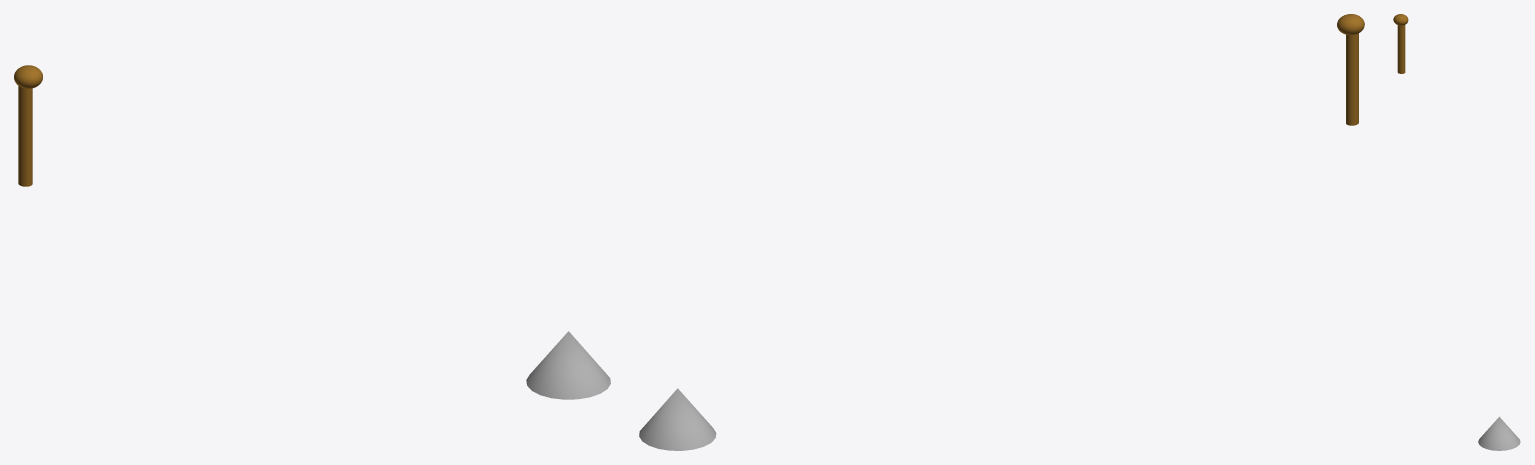
The model's file is Bulb03.fbx.
3 views of the same model, side by side, from view 1: azimuth 30°, elevation 25°; view 2: azimuth 150°, elevation 25°; view 3: azimuth 270°, elevation 25° (orthographic). The views are drawn at different scales.
Parts seen in each view (by area): view 1: HoldFast, polySurface105; view 2: HoldFast, polySurface105; view 3: HoldFast, polySurface105.
Boxes of the visible parts, x1=… form: HoldFast: x1=526, y1=331, x2=610, y2=399; polySurface105: x1=14, y1=65, x2=42, y2=186; HoldFast: x1=639, y1=388, x2=716, y2=450; polySurface105: x1=1337, y1=14, x2=1364, y2=125; HoldFast: x1=1478, y1=416, x2=1520, y2=450; polySurface105: x1=1393, y1=14, x2=1408, y2=73.
Size of the model in its own units: 3.5 by 2.64 by 1.12.
